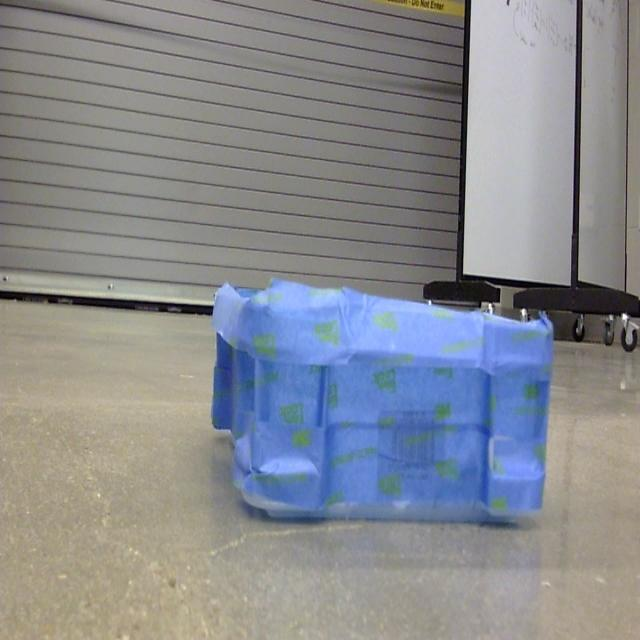bucket: (210, 280, 554, 529)
